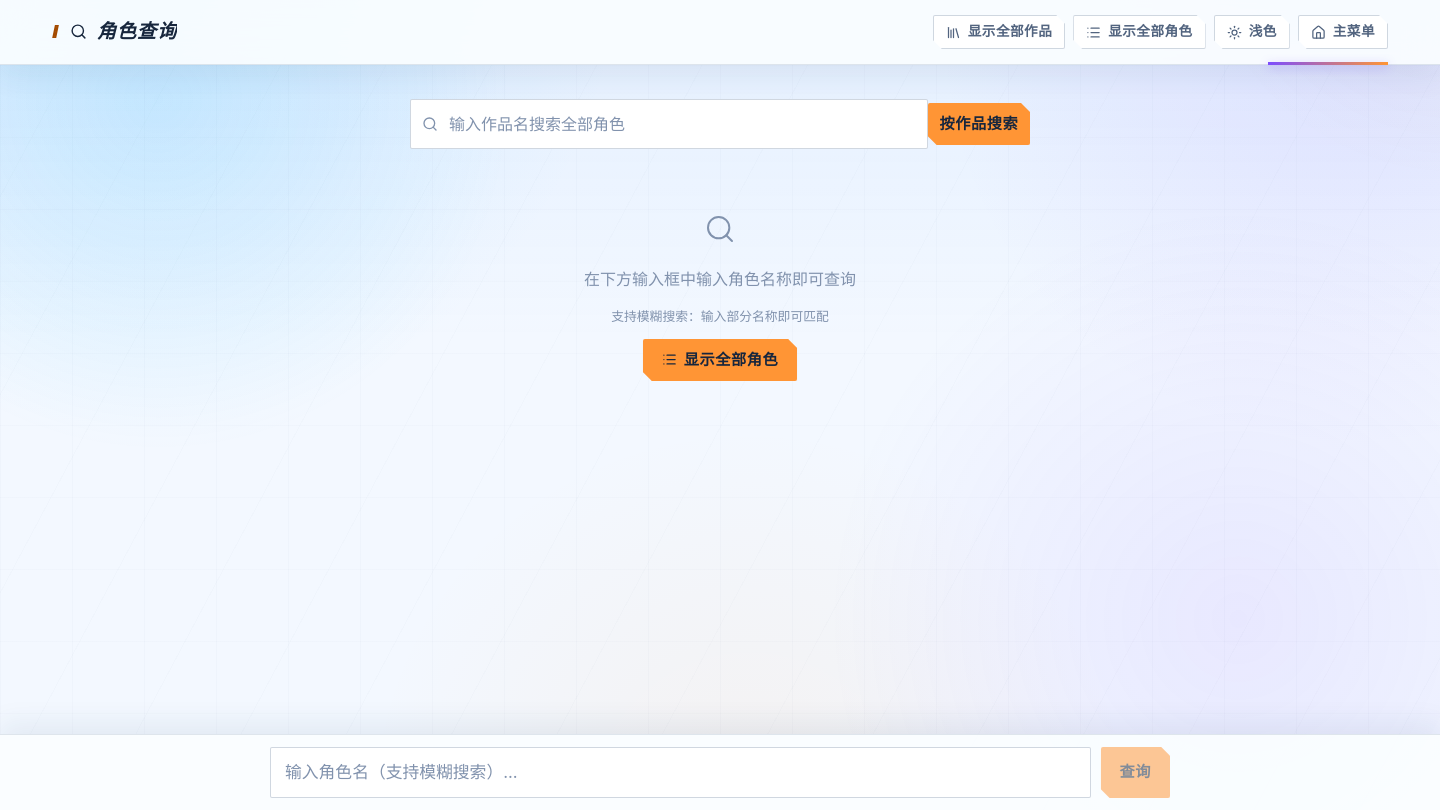
Search › filters all characters by the selected difficulty
The width and height of the screenshot is (1440, 810).
Click the button "显示全部角色" in the row of "主菜单": click(1139, 32) [1073,15,1206,49]
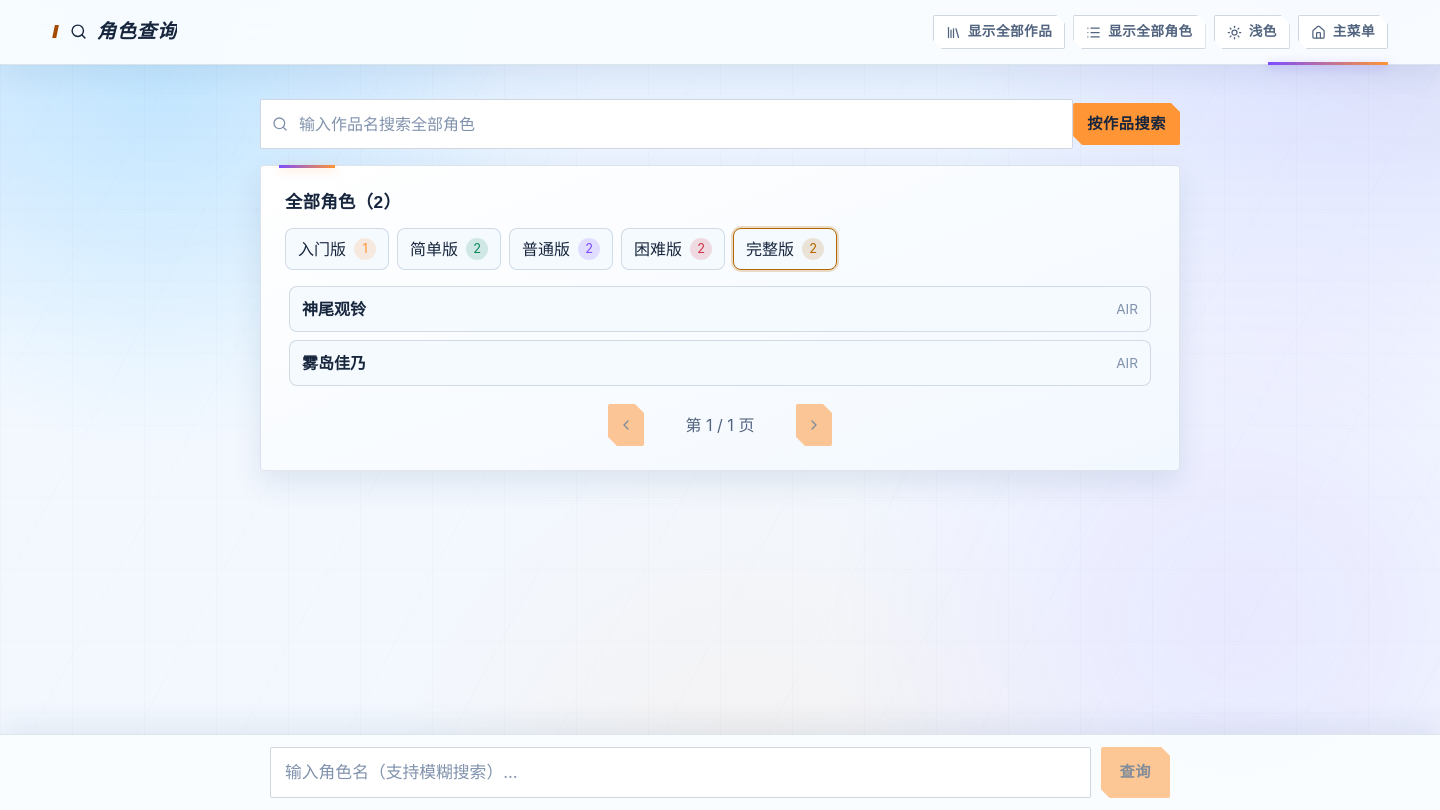
Expected: the text "雾岛佳乃" is shown, [302,351,366,375]
Click the button "入门版 1": click(337, 249) [285,228,389,270]
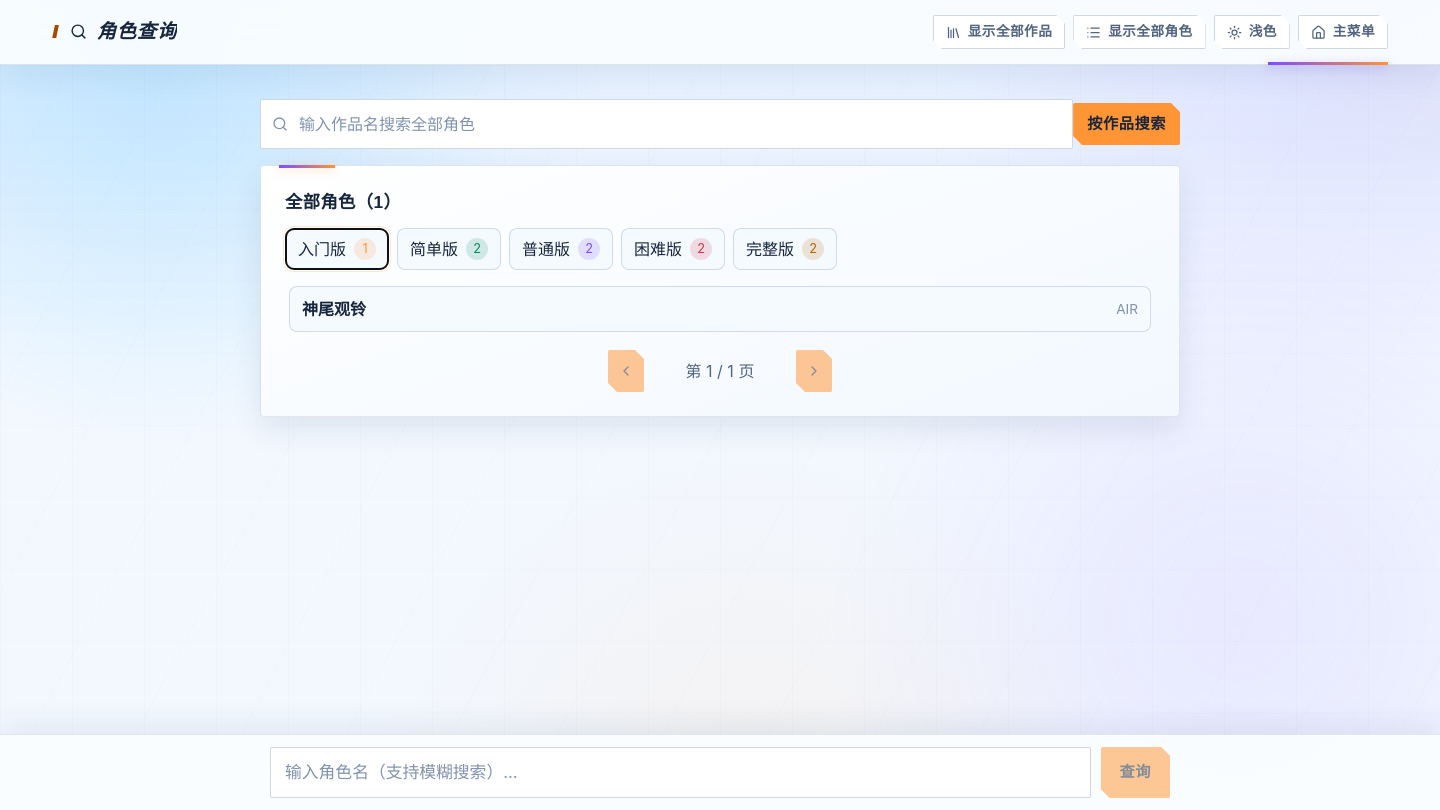
Expected: the text "神尾观铃" is shown, [302,297,366,321]
Expected: the button "雾岛佳乃" is gone
Expected: the heading "全部角色（1）" is shown, [285,192,401,212]
